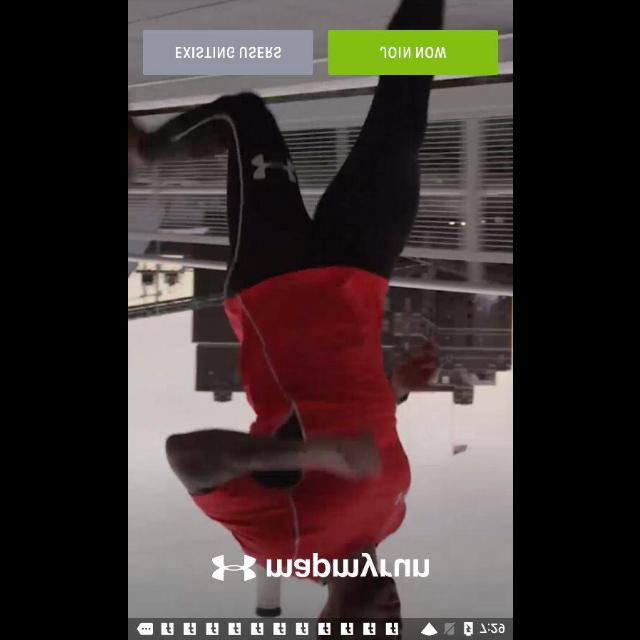backgroundimage: (128, 0, 512, 618)
image: (211, 553, 429, 581)
textbutton: (327, 29, 497, 75), (142, 30, 314, 74)
uppertaskbar: (128, 617, 512, 639)
